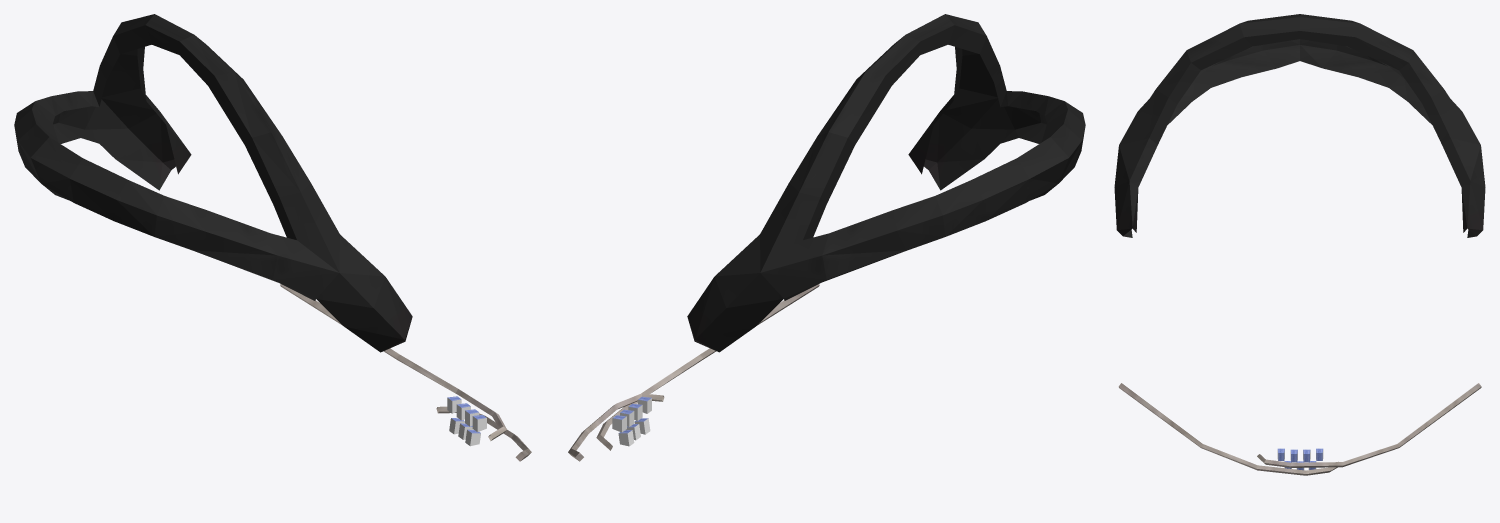
Rendered from BRACES.fbx.
The picture shows the model from 3 angles, left to right: view 1: azimuth 30°, elevation 25°; view 2: azimuth 150°, elevation 25°; view 3: azimuth 270°, elevation 25°; orthographic projection. The views are drawn at different scales.
Parts seen in each view (by area): view 1: BRACES; view 2: BRACES; view 3: BRACES.
Boxes of the visible parts, x1,y1,x2,y2 form: BRACES: (14, 14, 531, 461); BRACES: (568, 14, 1085, 461); BRACES: (1114, 14, 1485, 475).
Bounding box in the file's own units: 28.42 × 30.71 × 26.11.
